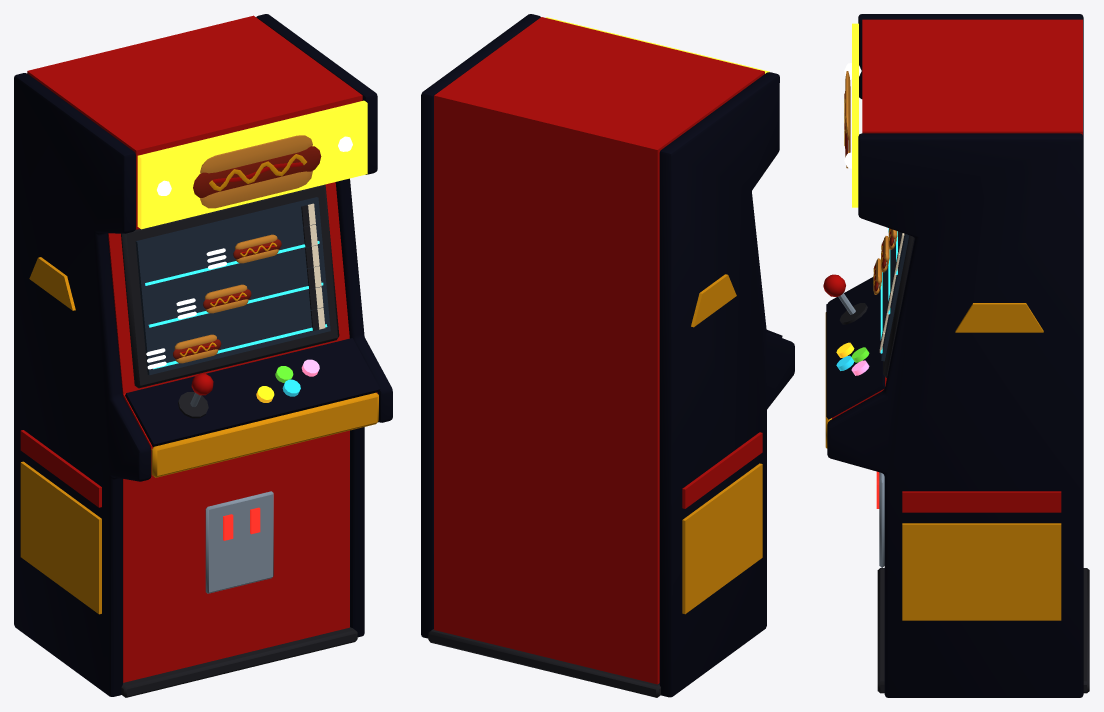
Rendered from DashArcade.fbx.
3 renders of one model, left to right at view 1: azimuth 30°, elevation 25°; view 2: azimuth 150°, elevation 25°; view 3: azimuth 270°, elevation 25°, orthographic. The views are drawn at different scales.
Parts seen in each view (by area): view 1: DashArcade; view 2: DashArcade; view 3: DashArcade.
Boxes of the visible parts, x1,y1,x2,y2 form: DashArcade: (14, 14, 392, 697); DashArcade: (421, 14, 794, 697); DashArcade: (823, 14, 1089, 697).
Bounding box in the file's own units: 3.46 × 7.01 × 3.02.
